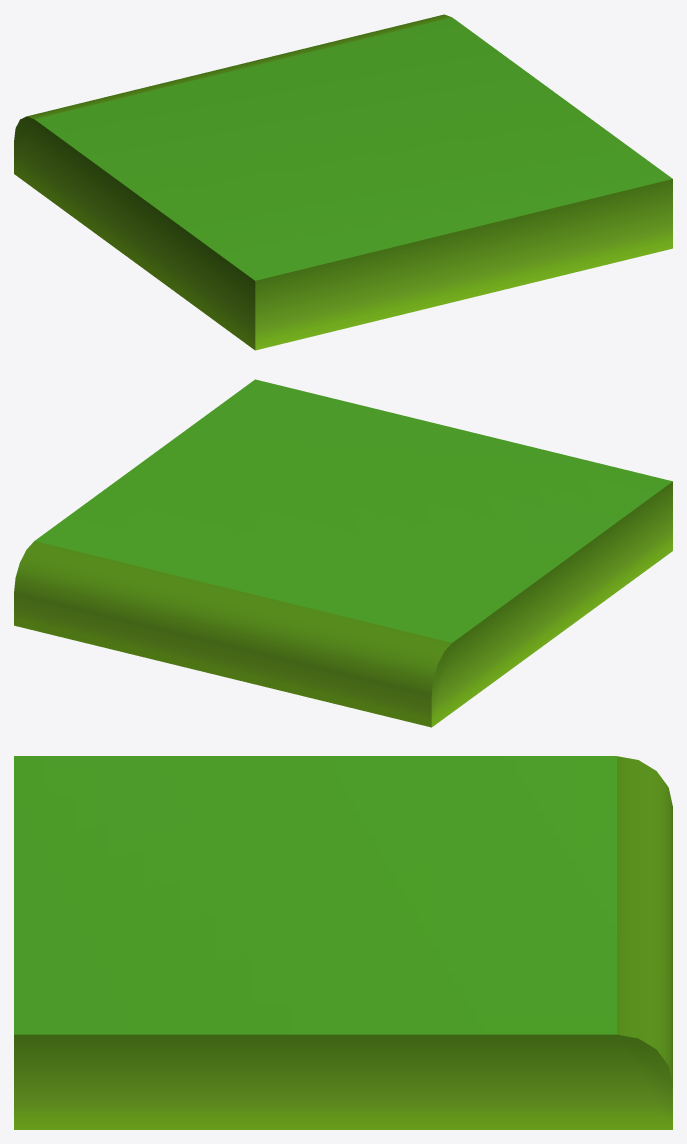
Rendered from GF_Edge_1_2.glb.
The picture shows the model from 3 angles, top to bottom: view 1: azimuth 30°, elevation 25°; view 2: azimuth 150°, elevation 25°; view 3: azimuth 270°, elevation 25°; orthographic projection. The views are drawn at different scales.
Parts seen in each view (by area): view 1: GF_Edge_1_2; view 2: GF_Edge_1_2; view 3: GF_Edge_1_2.
Part boxes in pixels (x1,y1,x2,y2): GF_Edge_1_2: (14,14,672,350); GF_Edge_1_2: (14,379,672,727); GF_Edge_1_2: (14,756,672,1129).
Bounding box in the file's own units: 2 × 0.3187 × 2.
Materials: 1 (1 with a texture image).
